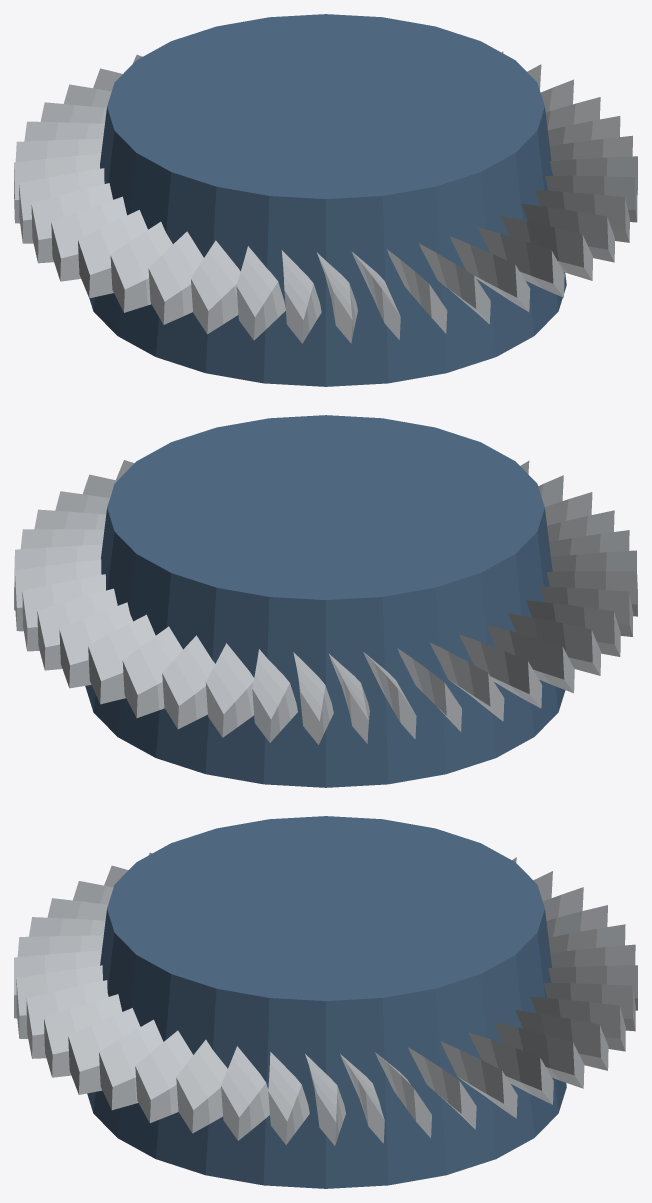
File: turbinedisc_basic.glb
The picture shows the model from 3 angles, top to bottom: view 1: azimuth 30°, elevation 25°; view 2: azimuth 150°, elevation 25°; view 3: azimuth 270°, elevation 25°; orthographic projection.
Parts seen in each view (by area): view 1: turbinedisc_basic; view 2: turbinedisc_basic; view 3: turbinedisc_basic.
Part boxes in pixels (x1=…): turbinedisc_basic: x1=14, y1=14, x2=637, y2=386; turbinedisc_basic: x1=14, y1=415, x2=637, y2=787; turbinedisc_basic: x1=14, y1=816, x2=637, y2=1188.
Size of the model in its own units: 0.228 by 0.096 by 0.228.
